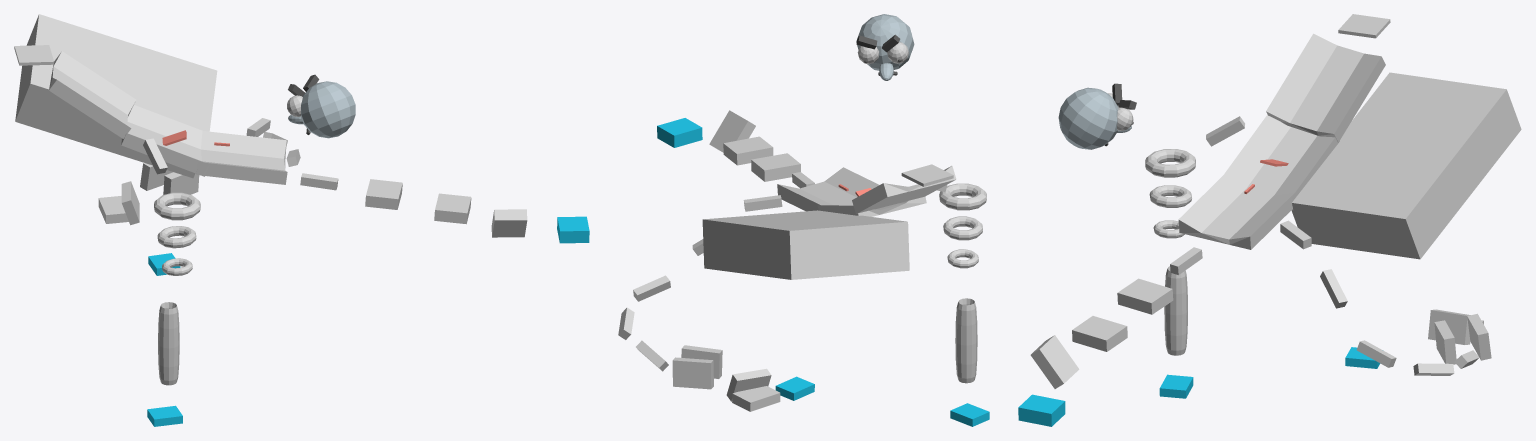
The model's file is level2.glb.
3 renders of one model, left to right at view 1: azimuth 30°, elevation 25°; view 2: azimuth 150°, elevation 25°; view 3: azimuth 270°, elevation 25°, orthographic. The views are drawn at different scales.
Parts seen in each view (by area): view 1: group913938941, group895041274, group1363366386, group482683470, group1747576795, group135150135, group2112872910, group745730892, group764841200, group582268866, group1859548115, group63435475 (+5 smaller); view 2: group913938941, group895041274, group135150135, group1363366386, group1747576795, group1912992303, group764841200, group2112872910, group582268866, group1859548115, group745730892, group1085134996 (+12 smaller); view 3: group913938941, group1363366386, group482683470, group895041274, group1747576795, group135150135, group745730892, group582268866, group764841200, group2112872910, group1859548115, group930027475 (+12 smaller).
Part boxes in pixels (x1,y1,x2,y2): group913938941: (15, 14, 217, 178); group895041274: (196, 131, 287, 184); group1363366386: (49, 51, 135, 138); group482683470: (121, 105, 209, 176); group1747576795: (301, 81, 355, 138); group135150135: (158, 302, 179, 385); group2112872910: (154, 192, 200, 220); group745730892: (491, 209, 527, 237); group764841200: (365, 179, 402, 209); group582268866: (434, 193, 471, 224); group1859548115: (557, 216, 589, 243); group63435475: (14, 45, 54, 65); group913938941: (702, 210, 909, 279); group895041274: (777, 167, 879, 211); group135150135: (955, 298, 977, 383); group1363366386: (852, 166, 956, 213); group1747576795: (856, 14, 914, 70); group1912992303: (672, 357, 713, 389); group764841200: (751, 153, 800, 181); group2112872910: (939, 183, 986, 210); group582268866: (723, 136, 773, 165); group1859548115: (657, 118, 702, 147); group745730892: (709, 110, 755, 152); group1085134996: (732, 386, 780, 411); group913938941: (1291, 72, 1521, 259); group1363366386: (1266, 33, 1385, 142); group482683470: (1223, 114, 1339, 210); group895041274: (1178, 176, 1294, 249); group1747576795: (1058, 87, 1118, 149); group135150135: (1164, 266, 1187, 355); group745730892: (1030, 335, 1079, 388); group582268866: (1072, 316, 1127, 351); group764841200: (1117, 278, 1173, 314); group2112872910: (1145, 149, 1195, 177); group1859548115: (1018, 394, 1065, 426); group930027475: (1428, 309, 1470, 344).
Size of the model in its own units: 4.33 by 3.23 by 4.03.
